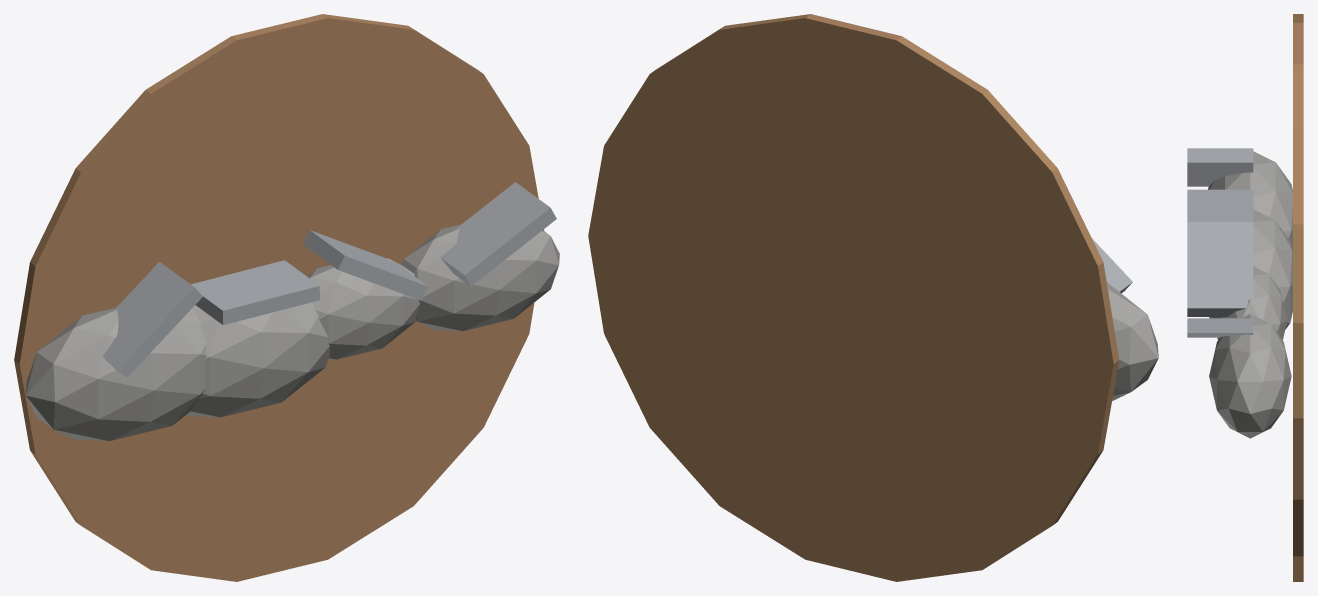
The model's file is 02_display_prop_cluster.glb.
3 renders of one model, left to right at view 1: azimuth 30°, elevation 25°; view 2: azimuth 150°, elevation 25°; view 3: azimuth 270°, elevation 25°, orthographic. The views are drawn at different scales.
Visible parts, largest first — view 1: scatter_base, scrap_rock_0, scrap_rock_1, scrap_rock_3, scrap_rock_2, scrap_plate_3, scrap_plate_0, scrap_plate_1, scrap_plate_2; view 2: scatter_base, scrap_rock_0; view 3: scrap_rock_3, scatter_base, scrap_plate_2, scrap_rock_0, scrap_rock_1, scrap_plate_1, scrap_plate_0, scrap_rock_2, scrap_plate_3.
Part boxes in pixels (x1,y1,x2,y2): scatter_base: [14, 14, 544, 581]; scrap_rock_0: [25, 307, 206, 441]; scrap_rock_1: [185, 302, 329, 417]; scrap_rock_3: [401, 224, 559, 331]; scrap_rock_2: [307, 258, 419, 359]; scrap_plate_3: [440, 182, 556, 286]; scrap_plate_0: [102, 261, 202, 377]; scrap_plate_1: [191, 260, 319, 325]; scrap_plate_2: [303, 230, 428, 300]; scatter_base: [588, 14, 1119, 581]; scrap_rock_0: [1106, 282, 1158, 400]; scrap_rock_3: [1209, 314, 1291, 438]; scatter_base: [1293, 14, 1303, 581]; scrap_plate_2: [1187, 222, 1253, 316]; scrap_rock_0: [1208, 151, 1292, 251]; scrap_rock_1: [1209, 209, 1292, 329]; scrap_plate_1: [1187, 189, 1253, 221]; scrap_plate_0: [1187, 148, 1253, 186]; scrap_rock_2: [1214, 266, 1287, 339]; scrap_plate_3: [1187, 318, 1253, 337].
Bounding box in the file's own units: 1.96 × 1.87 × 0.3875.
